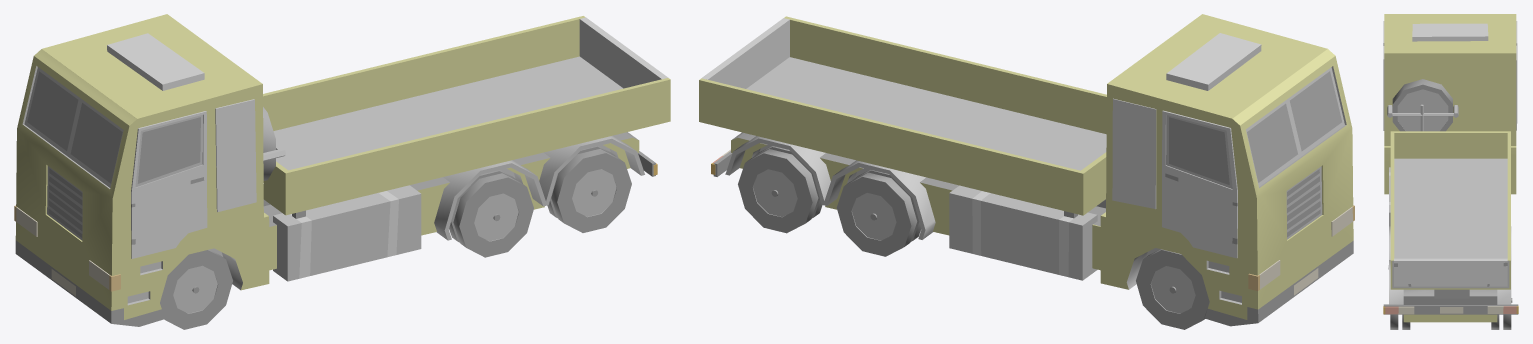
The model's file is kar26.fbx.
The picture shows the model from 3 angles, left to right: view 1: azimuth 30°, elevation 25°; view 2: azimuth 150°, elevation 25°; view 3: azimuth 270°, elevation 25°; orthographic projection. The views are drawn at different scales.
Visible parts, largest first — view 1: Boole_1, Extrude_1_1, Cylinder_4_1, Cylinder_3_1, Cylinder_1_1, Cube_1_1; view 2: Boole_1, Extrude_2_1, Cylinder_5_1, Cylinder_1, Cylinder_2_1, Cube_1_1; view 3: Boole_1, Cube_1_1, Cylinder_1, Cylinder_3_1, Extrude_2_1.
Part boxes in pixels (<box>): Boole_1: <box>14,14,670,326</box>; Extrude_1_1: <box>131,111,207,258</box>; Cylinder_4_1: <box>449,170,533,257</box>; Cylinder_3_1: <box>547,146,631,232</box>; Cylinder_1_1: <box>160,249,232,329</box>; Cube_1_1: <box>579,17,668,88</box>; Boole_1: <box>699,14,1354,326</box>; Extrude_2_1: <box>1162,110,1237,258</box>; Cylinder_5_1: <box>836,169,921,256</box>; Cylinder_1: <box>738,146,822,233</box>; Cylinder_2_1: <box>1136,249,1209,329</box>; Cube_1_1: <box>701,18,789,88</box>; Boole_1: <box>1383,14,1518,322</box>; Cube_1_1: <box>1394,258,1507,286</box>; Cylinder_1: <box>1491,298,1512,329</box>; Cylinder_3_1: <box>1390,314,1410,329</box>; Extrude_2_1: <box>1516,21,1517,123</box>.
Size of the model in its own units: 832 by 333 by 251.
